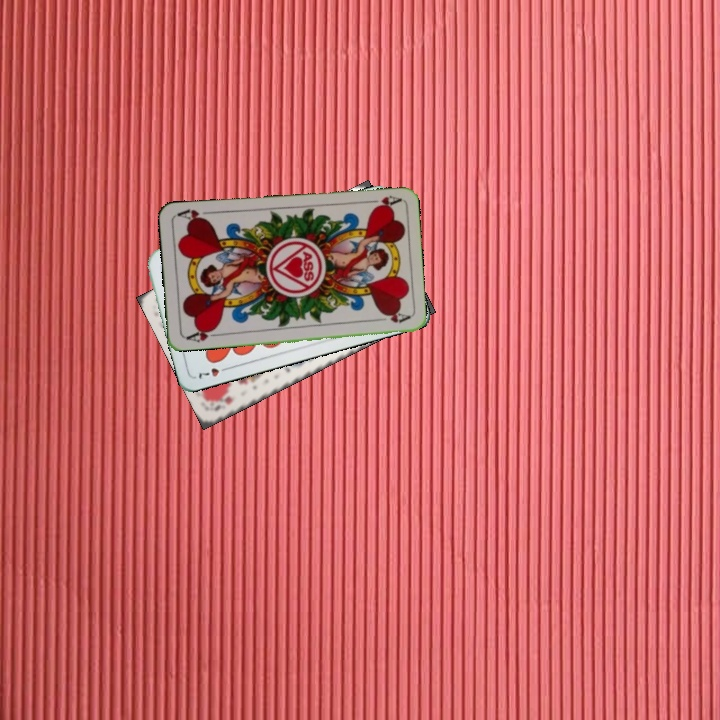H7: (193, 363, 232, 381)
HA: (182, 324, 222, 345), (362, 191, 402, 212)
HK: (208, 392, 236, 413)
